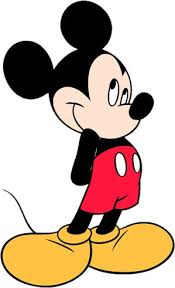mickey: (1, 1, 175, 288)
